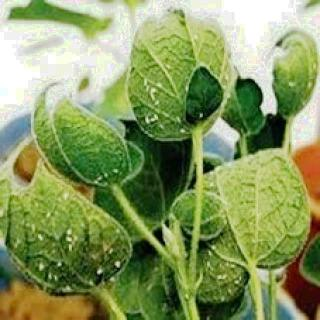curl: (12, 195, 134, 297), (33, 81, 138, 178), (179, 199, 247, 313), (132, 55, 231, 133)
